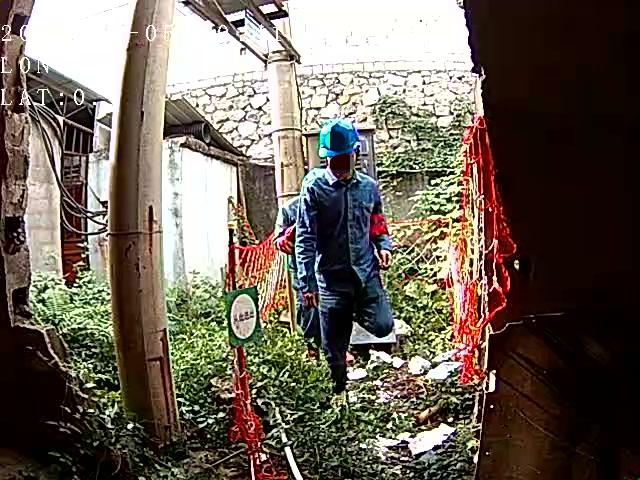halt: (319, 123, 366, 178)
